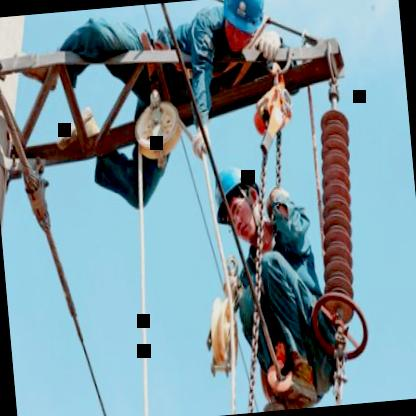helmet: (211, 155, 266, 249), (223, 0, 265, 43)
